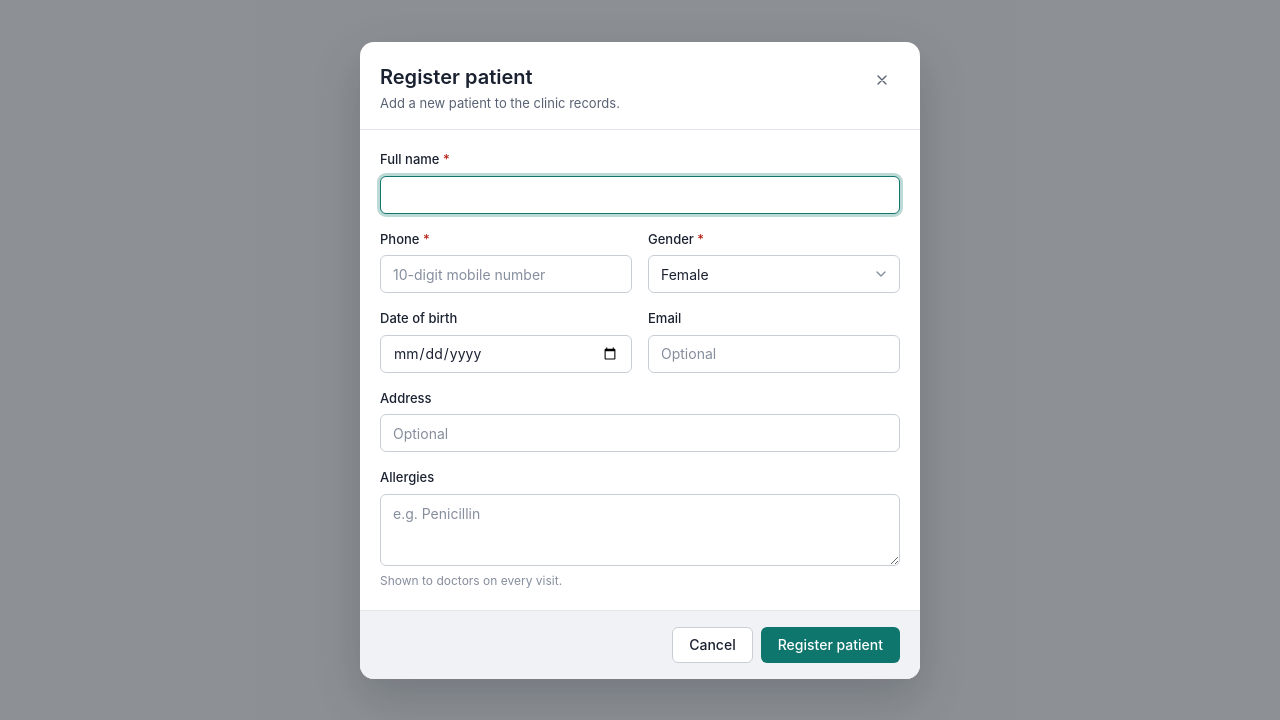
Test: PatientFormModal › shows the server error when the patient already exists
Type "Priya Sharma" into the field labelled "Full name *" at (640, 194), box [380,176,900,214]
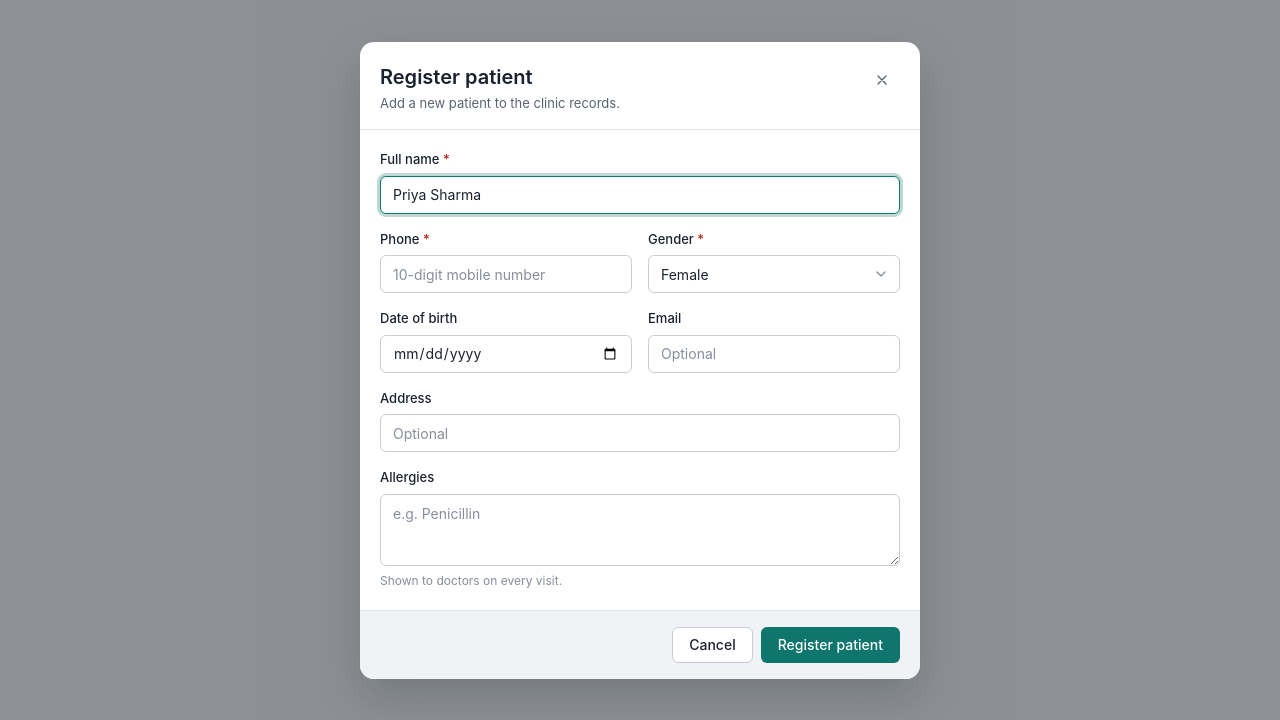
Type "9876543210" into the field labelled "Phone *" at (506, 274), box [380,255,632,293]
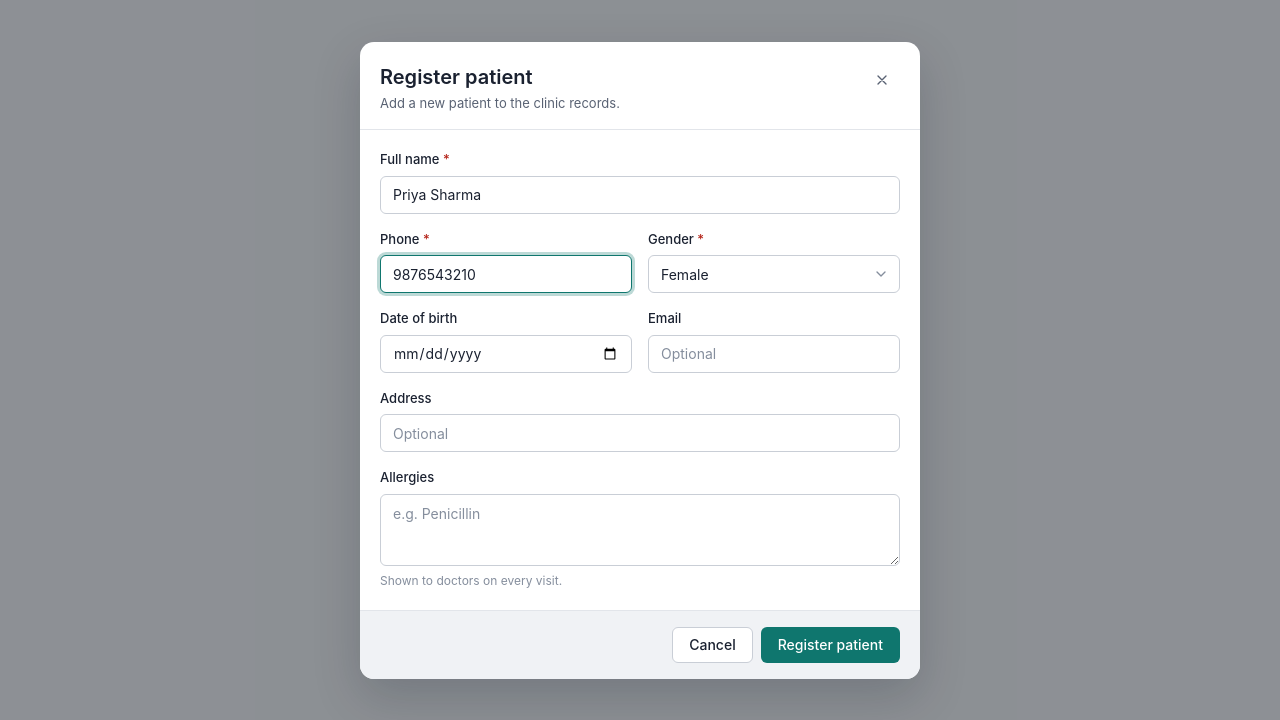
Click the button "Register patient" at (830, 644), box [761,626,900,662]
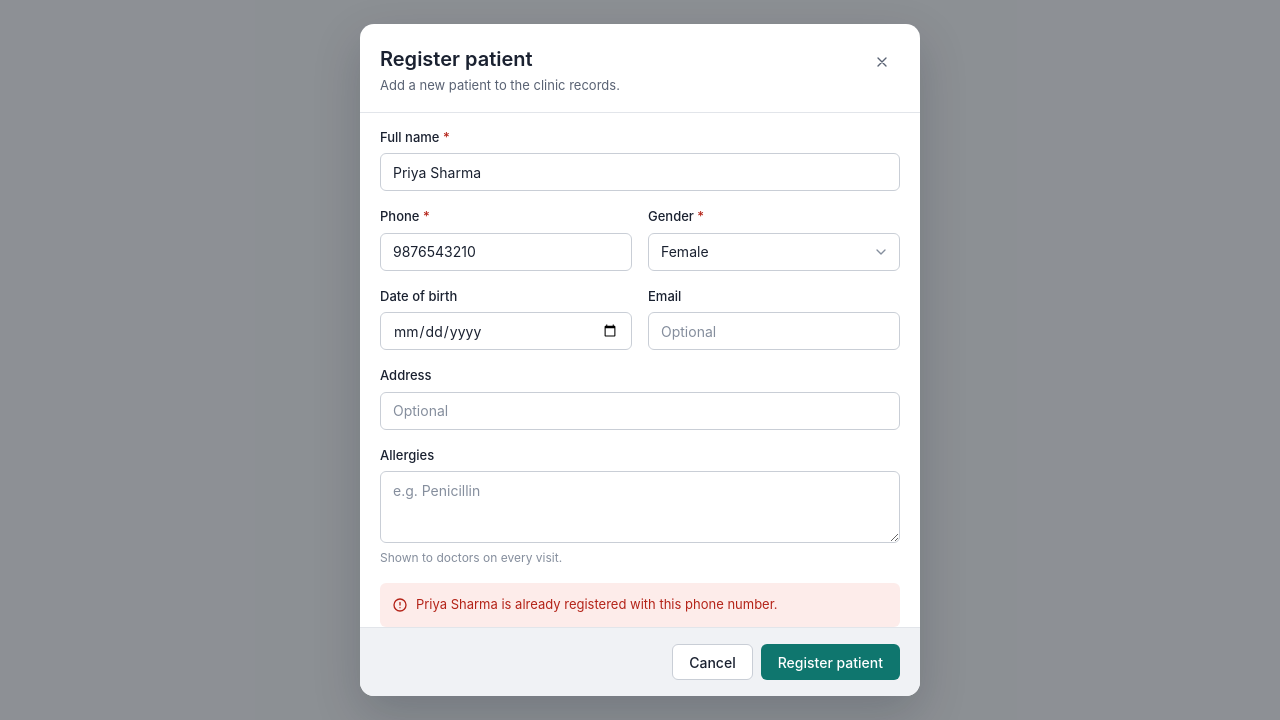
Now the message shows "already registered", box [416,596,778,612]
